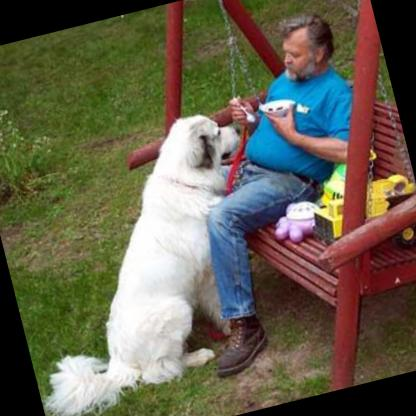Great_Pyrenees: (0, 103, 301, 416)
